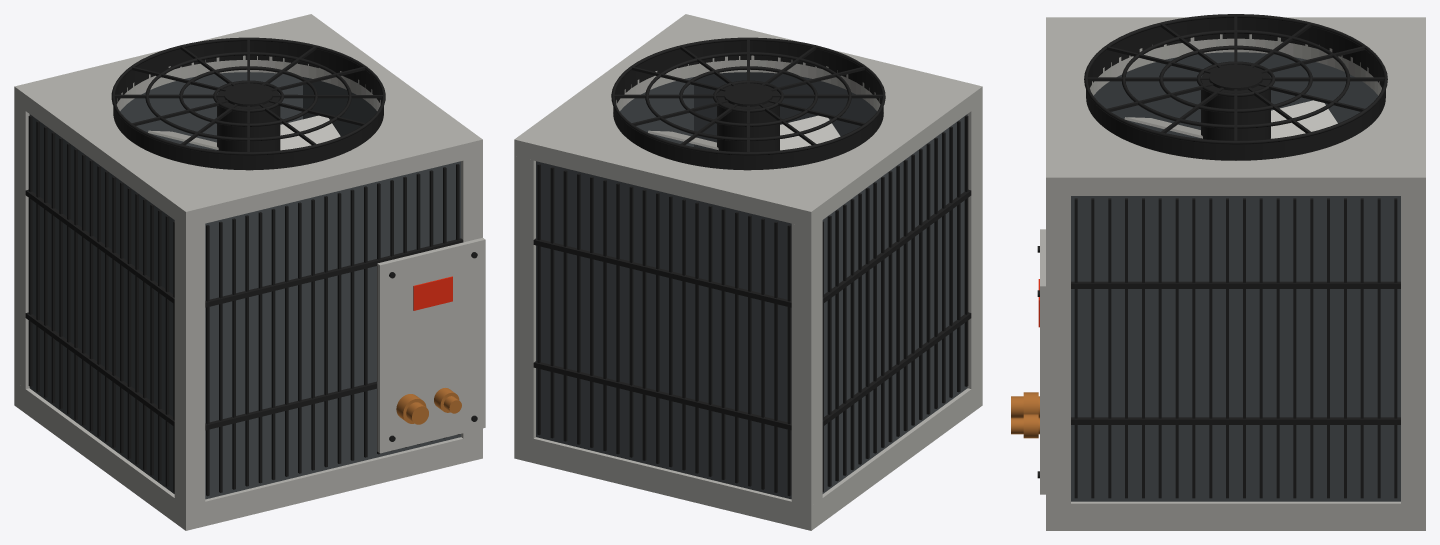
Rendered from condenser.glb.
3 views of the same model, side by side, from view 1: azimuth 30°, elevation 25°; view 2: azimuth 150°, elevation 25°; view 3: azimuth 270°, elevation 25° (orthographic). The views are drawn at different scales.
Parts seen in each view (by area): view 1: corner_posts, base_pan, coil_guard_wires, cabinet_floor; view 2: corner_posts, coil_guard_wires, base_pan, cabinet_floor; view 3: corner_posts, base_pan, coil_guard_wires, cabinet_floor.
Part boxes in pixels (x1,y1,x2,y2): corner_posts: (14,72,482,506); base_pan: (14,14,485,530); coil_guard_wires: (25,37,477,496); cabinet_floor: (113,41,383,170); corner_posts: (514,72,982,506); coil_guard_wires: (533,37,971,496); base_pan: (514,14,982,530); cabinet_floor: (613,41,883,170); corner_posts: (1011,52,1425,503); base_pan: (1038,17,1425,530); coil_guard_wires: (1037,14,1400,498); cabinet_floor: (1086,18,1385,160).
Size of the model in its own units: 0.76 by 0.826 by 0.83.
Materials: 4 (4 with a texture image).
